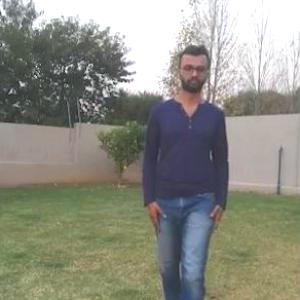follow: (148, 42, 225, 299)
